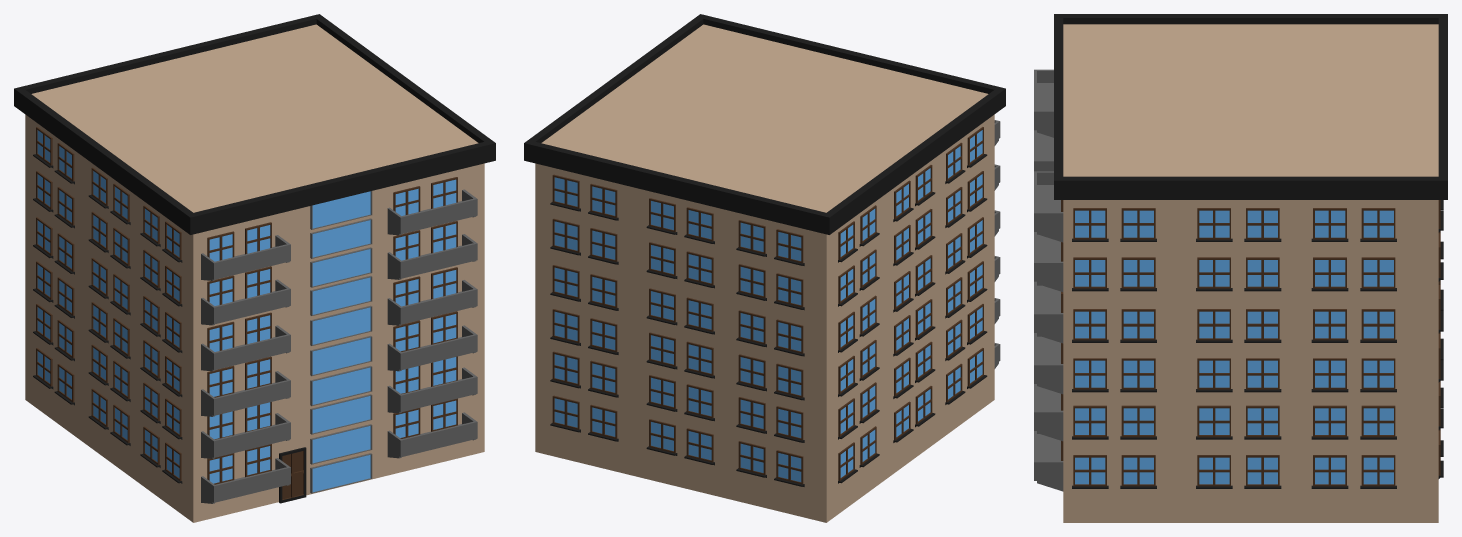
Rendered from cityasset_house_7.fbx.
3 views of the same model, side by side, from view 1: azimuth 30°, elevation 25°; view 2: azimuth 150°, elevation 25°; view 3: azimuth 270°, elevation 25° (orthographic). The views are drawn at different scales.
Visible parts, largest first — view 1: Cube.003, Cube.154, Cube.153, Cube.157, Cube.151, Cube.152, Cube.155, Cube.148, Cube.149, Cube.150, Cube.008, Cube.147 (+72 smaller); view 2: Cube.003, Cube.075, Cube.084, Cube.085, Cube.091, Cube.103, Cube.076, Cube.078, Cube.079, Cube.081, Cube.082, Cube.083 (+61 smaller); view 3: Cube.003, Cube.155, Cube.153, Cube.152, Cube.157, Cube.154, Cube.151, Cube.150, Cube.043, Cube.047, Cube.055, Cube.059 (+33 smaller).
Boxes of the visible parts, left/top/right/bottom form: Cube.003: left=14, top=14, right=495, bottom=522; Cube.154: left=387, top=234, right=477, bottom=279; Cube.153: left=387, top=280, right=477, bottom=325; Cube.157: left=387, top=412, right=477, bottom=458; Cube.151: left=387, top=367, right=477, bottom=413; Cube.152: left=387, top=325, right=477, bottom=371; Cube.155: left=387, top=189, right=477, bottom=235; Cube.148: left=201, top=325, right=290, bottom=371; Cube.149: left=201, top=279, right=290, bottom=325; Cube.150: left=201, top=235, right=290, bottom=280; Cube.008: left=201, top=413, right=290, bottom=458; Cube.147: left=201, top=371, right=290, bottom=416; Cube.003: left=524, top=14, right=1005, bottom=522; Cube.075: left=588, top=404, right=618, bottom=441; Cube.084: left=550, top=218, right=580, bottom=255; Cube.085: left=588, top=183, right=618, bottom=220; Cube.091: left=774, top=363, right=804, bottom=400; Cube.103: left=684, top=341, right=714, bottom=378; Cube.076: left=550, top=395, right=580, bottom=432; Cube.078: left=550, top=351, right=580, bottom=388; Cube.079: left=588, top=318, right=618, bottom=354; Cube.081: left=588, top=274, right=618, bottom=310; Cube.082: left=550, top=265, right=580, bottom=301; Cube.083: left=588, top=228, right=618, bottom=264; Cube.003: left=1054, top=14, right=1447, bottom=522; Cube.155: left=1034, top=171, right=1063, bottom=242; Cube.153: left=1034, top=281, right=1063, bottom=343; Cube.152: left=1034, top=333, right=1063, bottom=394; Cube.157: left=1034, top=431, right=1063, bottom=491; Cube.154: left=1034, top=232, right=1063, bottom=291; Cube.151: left=1034, top=384, right=1063, bottom=441; Cube.150: left=1034, top=69, right=1053, bottom=137; Cube.043: left=1120, top=358, right=1156, bottom=392; Cube.047: left=1120, top=257, right=1156, bottom=291; Cube.055: left=1360, top=358, right=1396, bottom=392; Cube.059: left=1360, top=257, right=1396, bottom=291.
Bounding box in the file's own units: 422 × 410 × 443.
